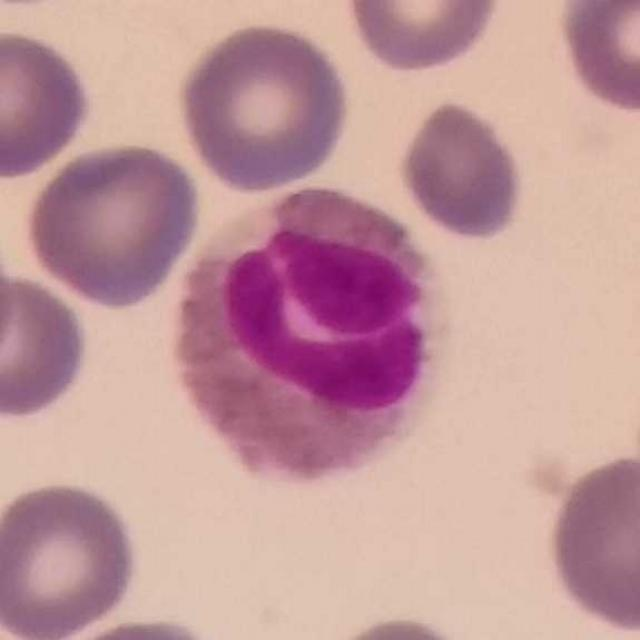eosino: (180, 181, 456, 485)
